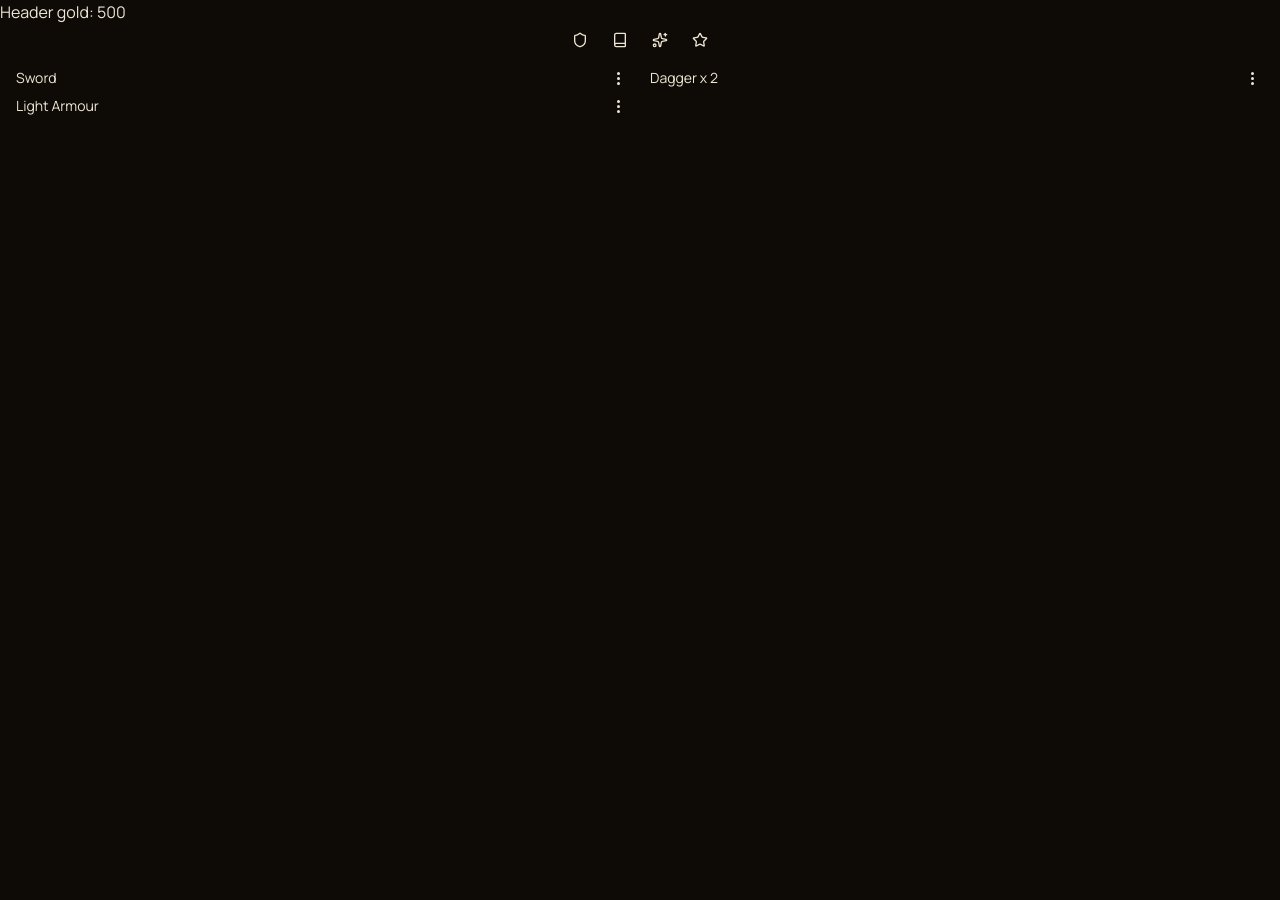
unit item menu: Buy again › starts at the copy's current price, house rule included, rather than the item's own (decision 11)
Click the button named "Actions for Dagger x 2" at (1252, 78), box [1244,68,1260,88]
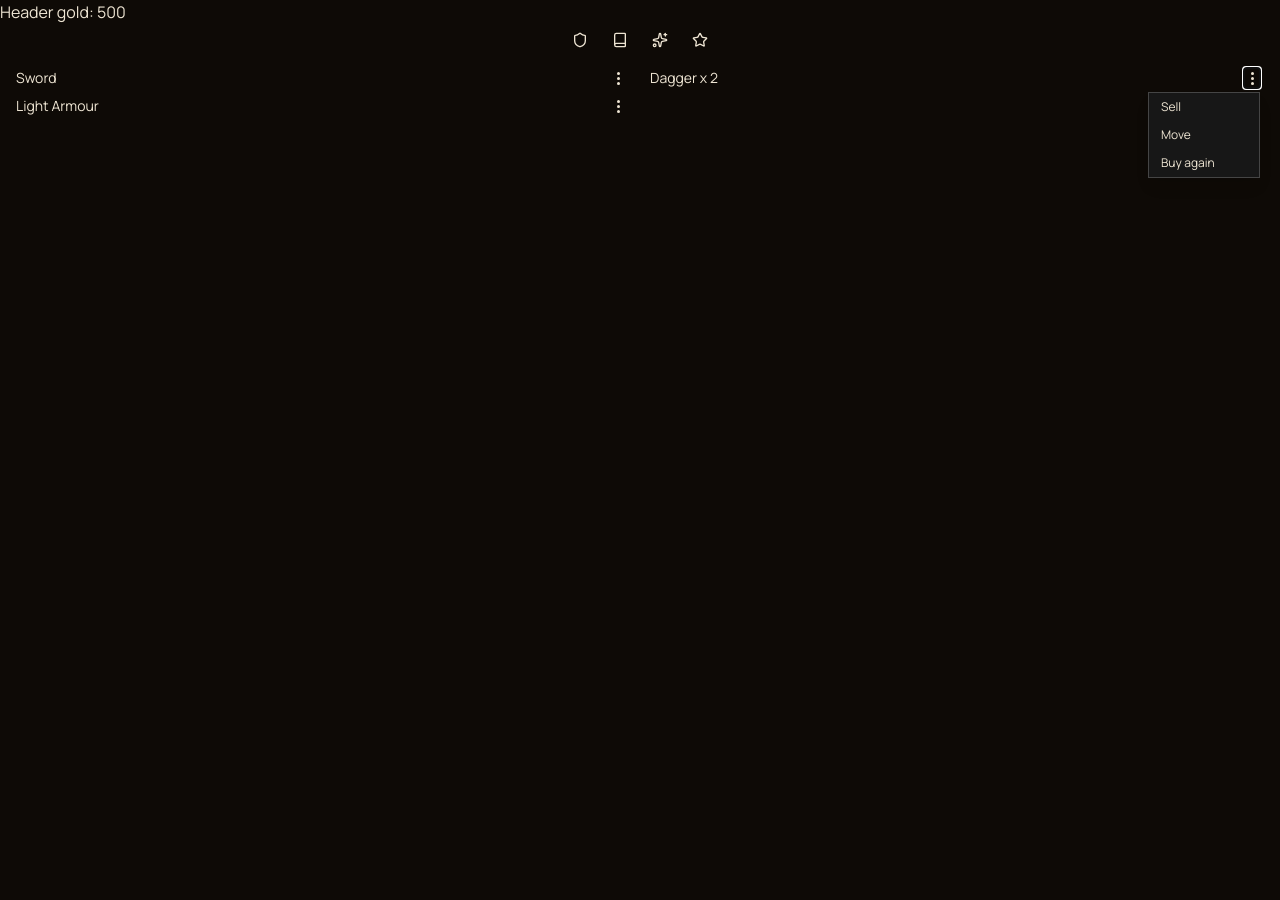
Click the button "Buy again" at (1204, 163), box [1149,149,1259,177]
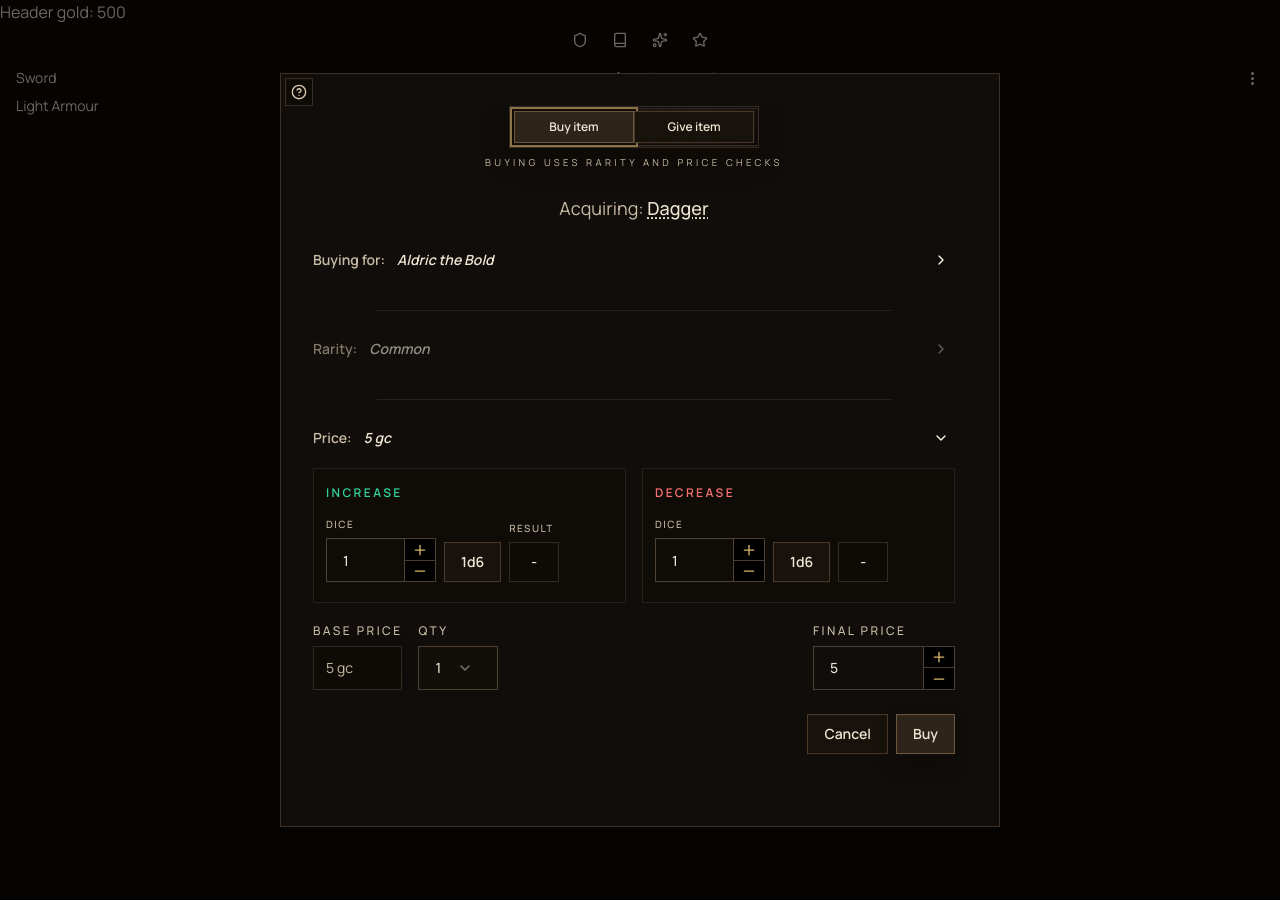
Result: the button "Buy" is enabled at [896,714,955,754]
Result: the number field showing "5" below "Final price" is shown at [813,646,925,690]
